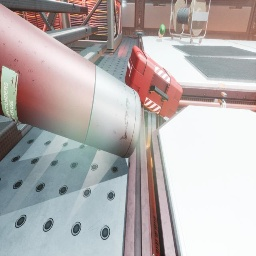0: (158, 24, 165, 38)
FirstAidBox ,: (125, 46, 183, 119)
NitrogenTank ,: (0, 3, 142, 158)
